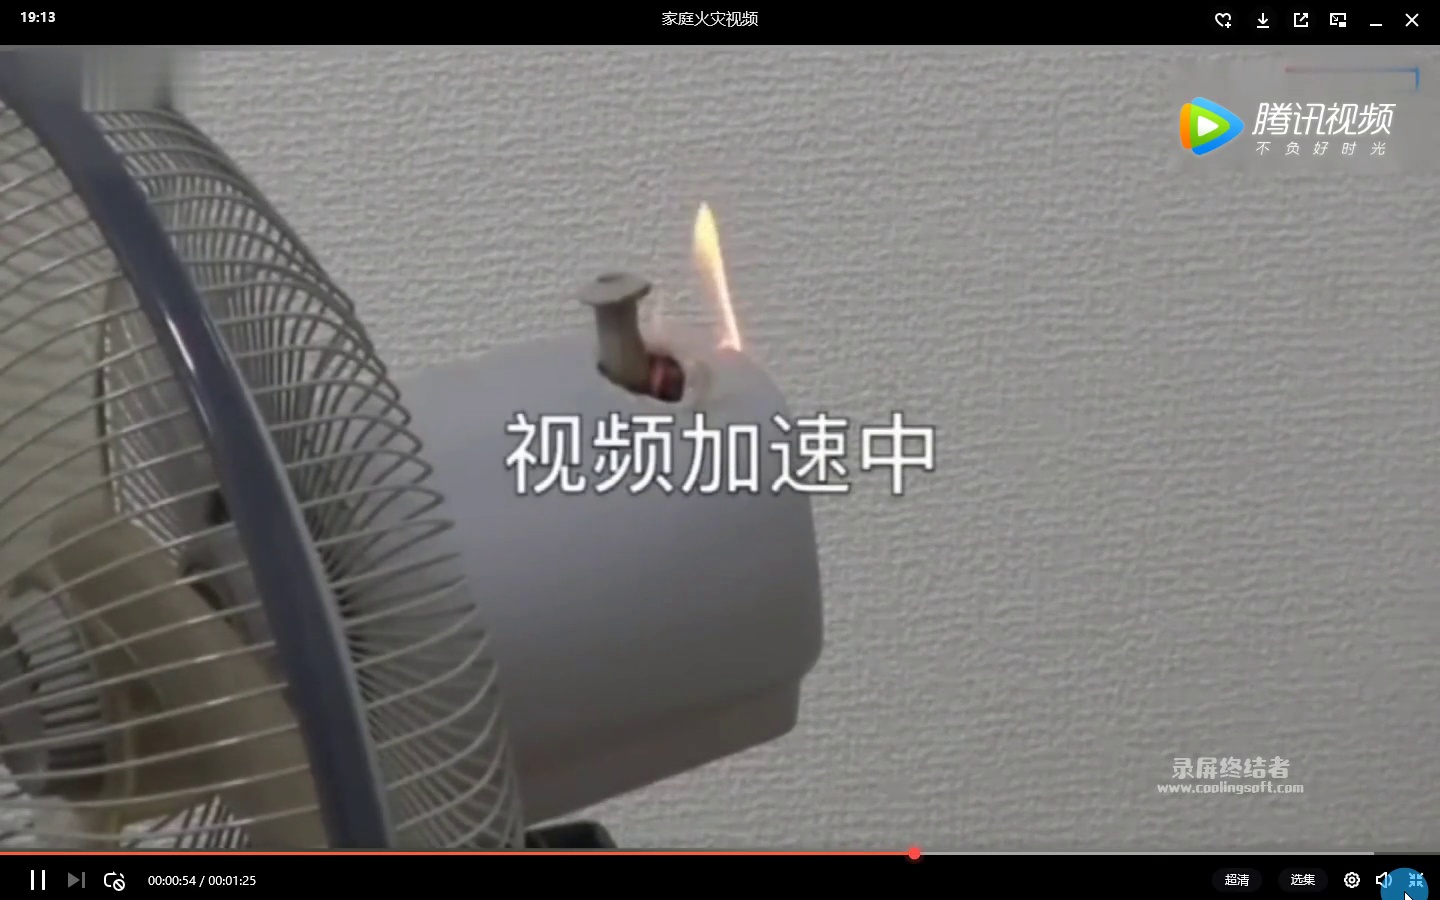fire: (679, 195, 751, 350)
